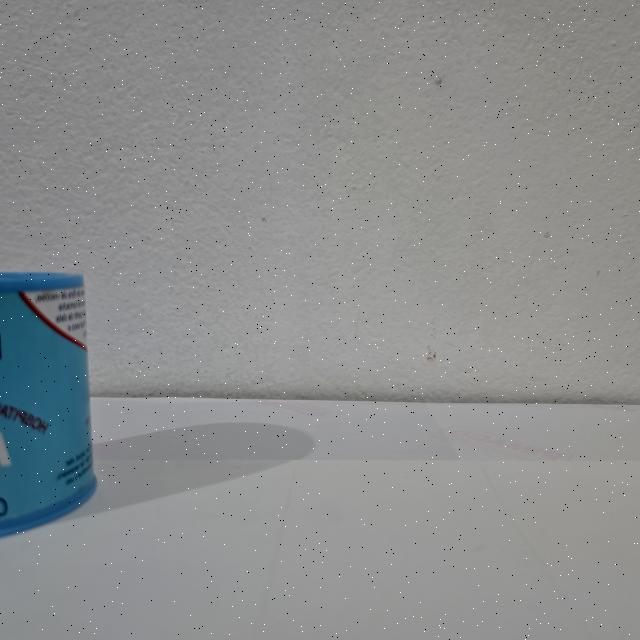procitex: (0, 262, 101, 540)
